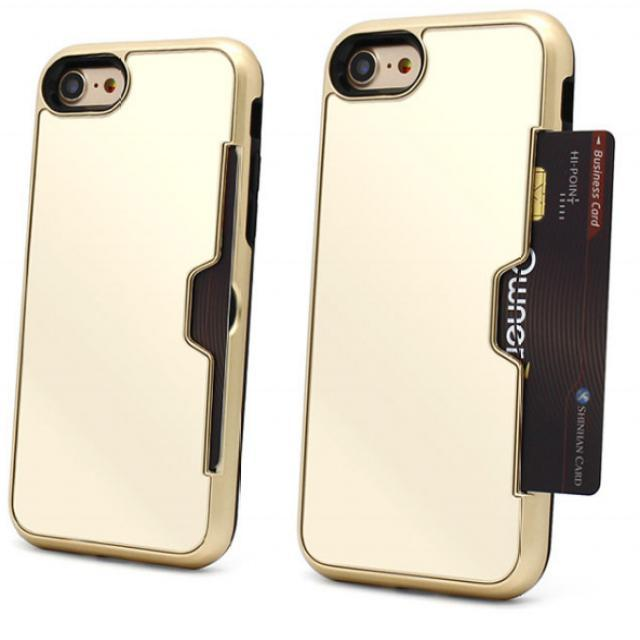phone: (8, 33, 264, 569)
